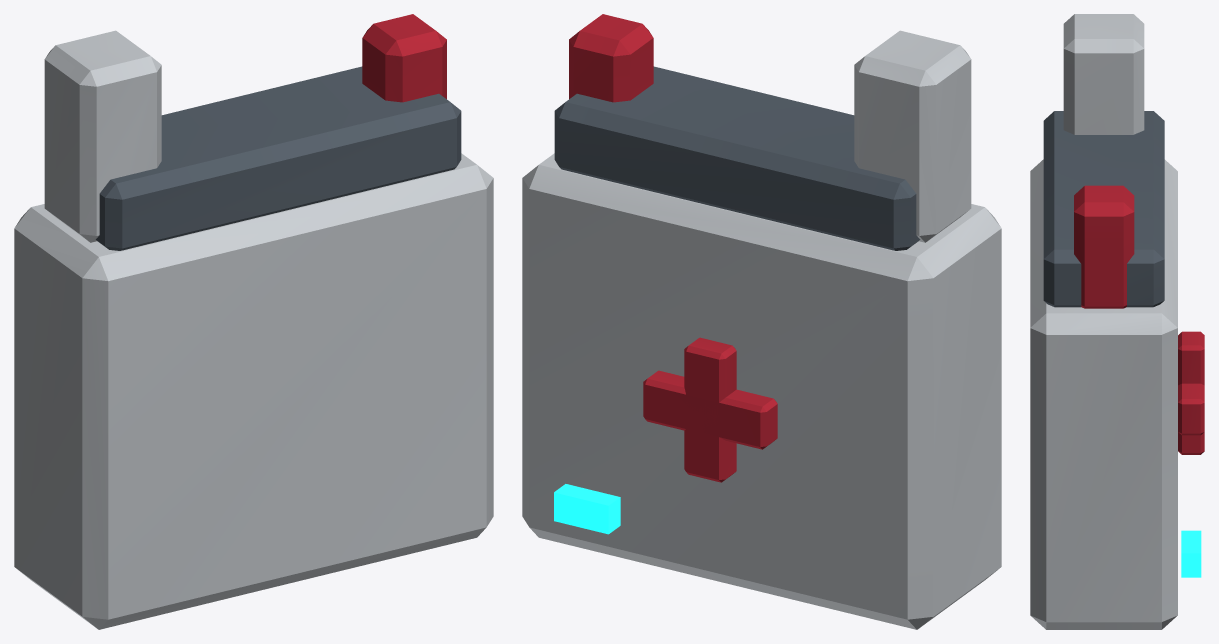
The model's file is gear.back.medic_pack.glb.
3 views of the same model, side by side, from view 1: azimuth 30°, elevation 25°; view 2: azimuth 150°, elevation 25°; view 3: azimuth 270°, elevation 25° (orthographic). The views are drawn at different scales.
Parts seen in each view (by area): view 1: socket.back@medic_pack.base; view 2: socket.back@medic_pack.base, socket.back@medic_pack.emissive.cyan; view 3: socket.back@medic_pack.base, socket.back@medic_pack.emissive.cyan.
Boxes of the visible parts, x1,y1,x2,y2 form: socket.back@medic_pack.base: (14,14,493,629); socket.back@medic_pack.base: (522,14,1001,629); socket.back@medic_pack.emissive.cyan: (554,484,620,534); socket.back@medic_pack.base: (1030,14,1204,629); socket.back@medic_pack.emissive.cyan: (1181,530,1201,577).
Size of the model in its own units: 0.3 by 0.38 by 0.13.
